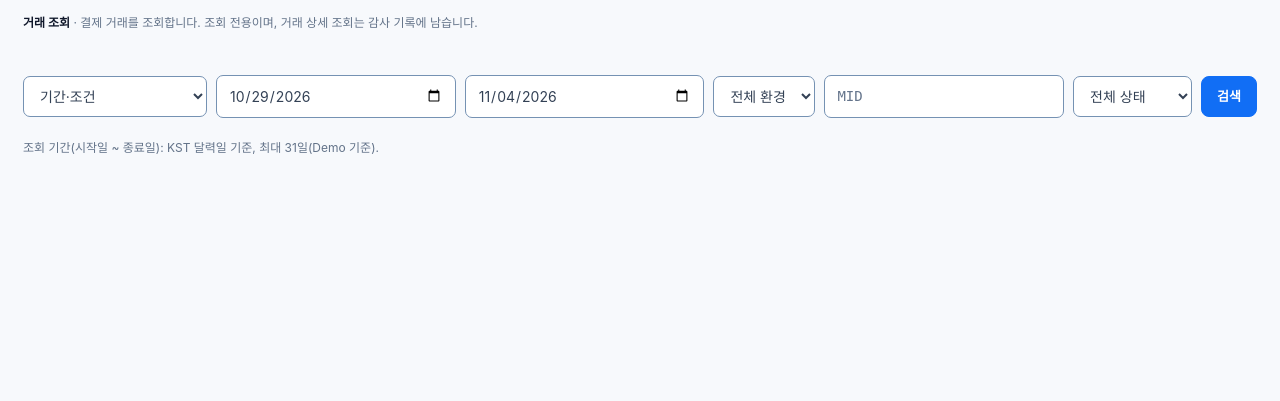
it: TransactionsScreen (TXN-OPS-001 §7 AC 10 — read-only transaction lookup) › a period search sends KST calendar days as UTC instants [from, next day) with the filters, lists 10-character names and pages with the cursor
Check: the date field named "시작일(KST)" holds "2026-10-29", box [216,75,456,118]
Check: the date field named "종료일(KST)" holds "2026-11-04", box [465,75,704,118]
Step 1. Select "LIVE" in the dropdown named "환경" → x=764, y=96, box [713,76,815,117]
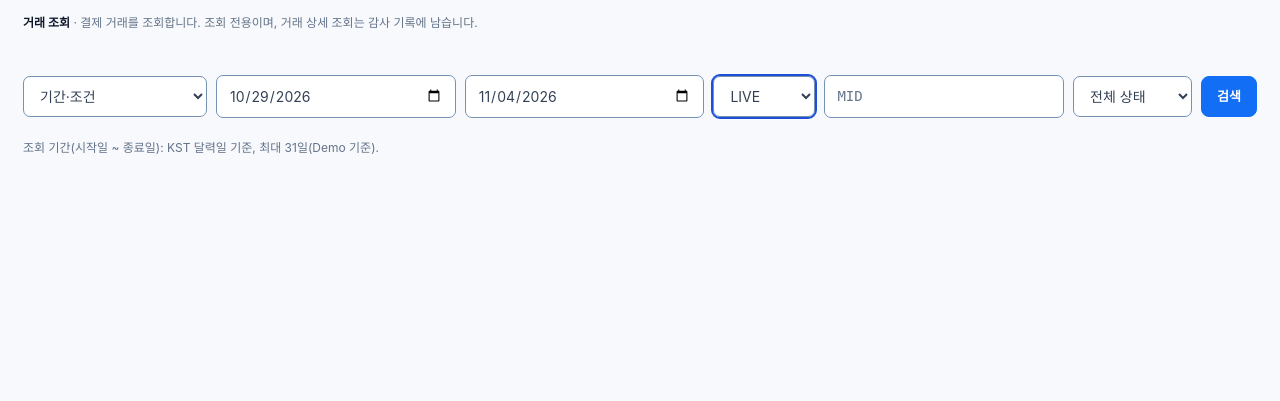
Step 2. Type "  mid-demo-1 " into the field labelled "MID" → x=944, y=96, box [824,75,1064,118]
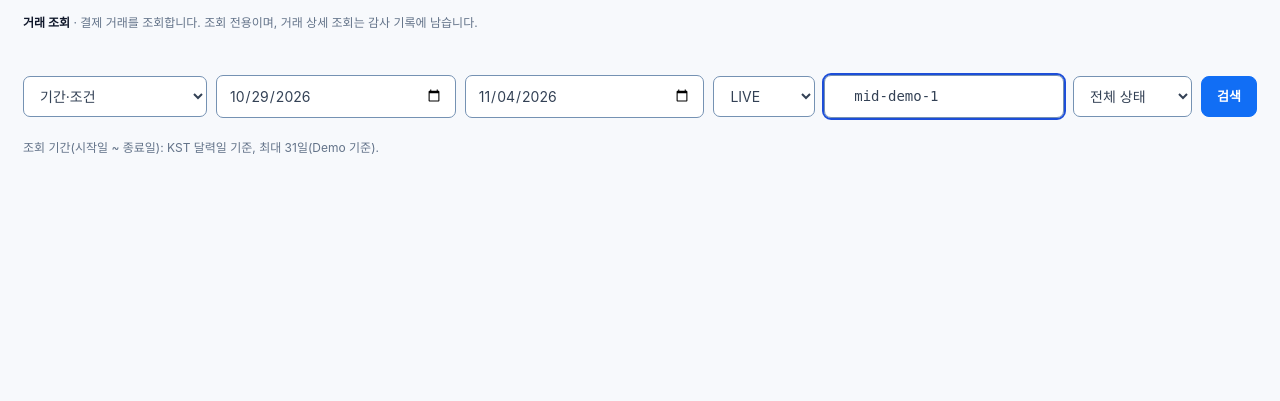
Step 3. Select "승인 완료" in the dropdown named "결제 상태" → x=1133, y=96, box [1073,76,1192,117]
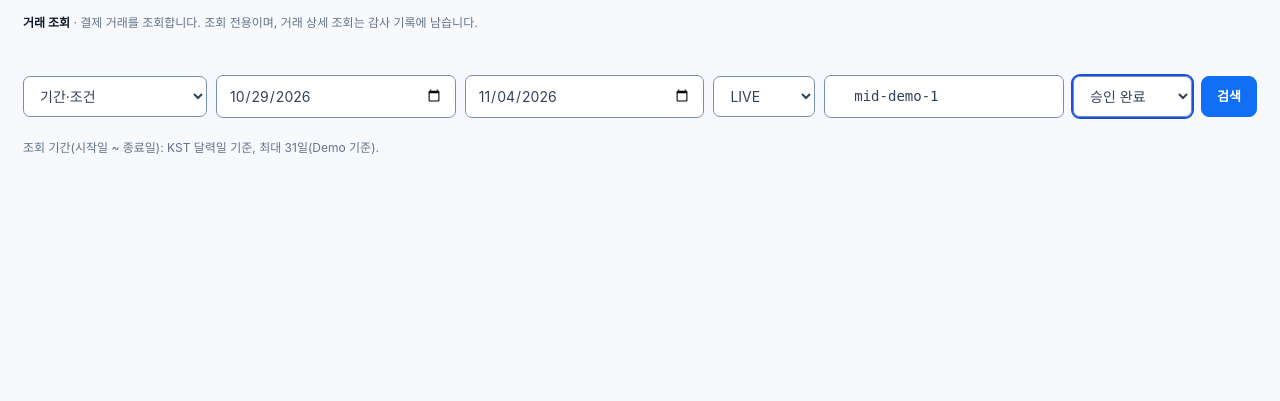
Step 4. Click the button "검색" → x=1229, y=96, box [1201,76,1257,117]
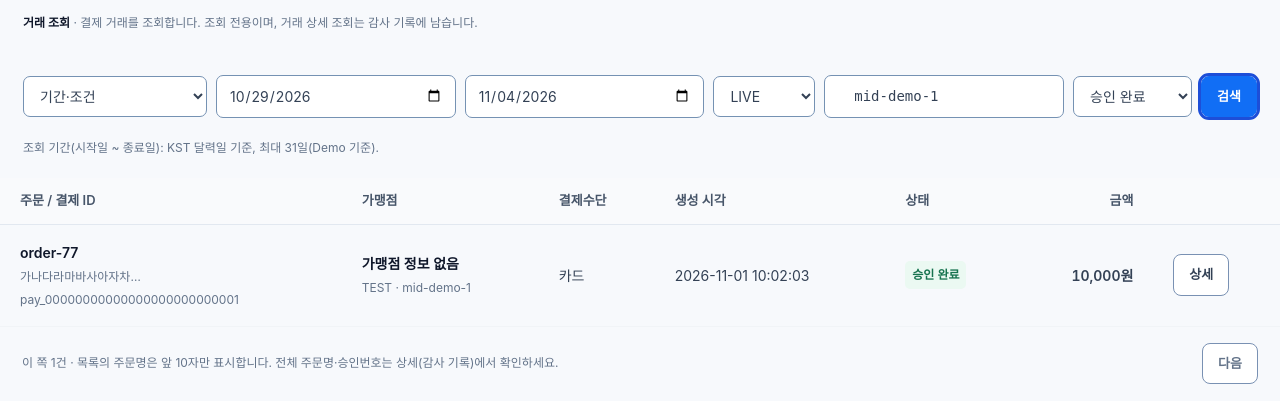
Step 5. Click the button "다음" → x=1230, y=363, box [1202,343,1258,384]
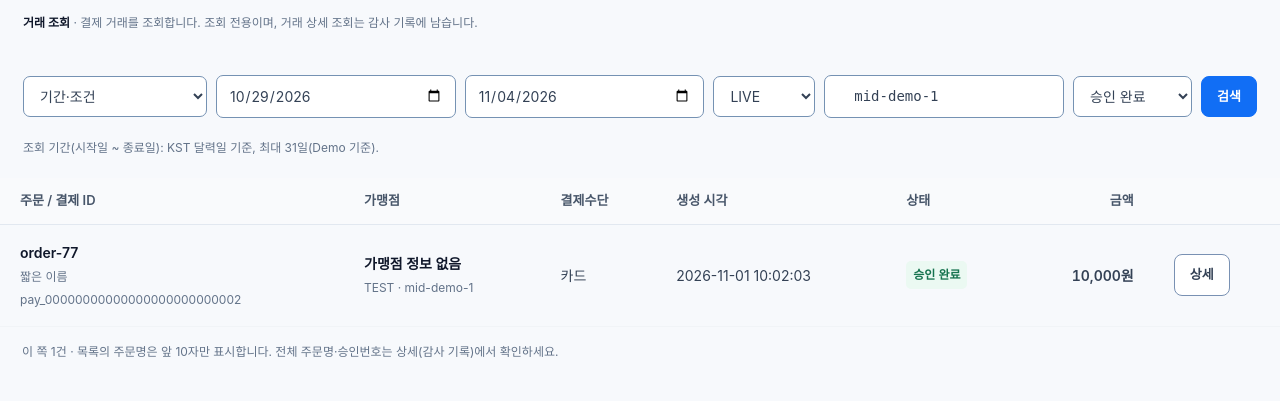
Check: the button "다음" is gone
